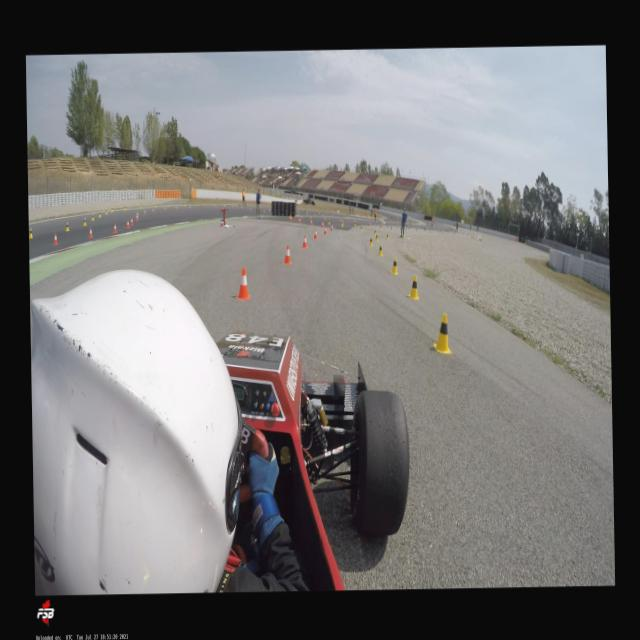orange_cone: (236, 268, 250, 300), (282, 244, 290, 264), (301, 234, 307, 248), (52, 232, 58, 244), (112, 222, 117, 233), (88, 226, 92, 238), (313, 228, 317, 239), (126, 219, 130, 228), (321, 220, 324, 228), (330, 224, 333, 231), (130, 217, 132, 226), (324, 226, 326, 234), (310, 218, 312, 225), (288, 213, 290, 220), (136, 212, 138, 218), (136, 214, 138, 220), (298, 218, 300, 224), (152, 208, 154, 213), (163, 206, 165, 211), (289, 216, 291, 221), (143, 210, 145, 214), (175, 206, 177, 210)
yellow_cone: (432, 312, 450, 353), (408, 274, 418, 300), (390, 256, 398, 274), (377, 243, 383, 256), (64, 221, 69, 231), (28, 227, 32, 238), (368, 236, 372, 246), (82, 217, 86, 226), (385, 232, 389, 240), (374, 234, 378, 242), (90, 213, 94, 221), (373, 228, 376, 236), (340, 220, 343, 227), (104, 208, 107, 214), (360, 224, 362, 232), (98, 210, 100, 218), (110, 206, 112, 212), (328, 218, 330, 224), (154, 203, 156, 208), (166, 201, 168, 206), (123, 206, 125, 210), (140, 204, 142, 208), (342, 220, 344, 224)
